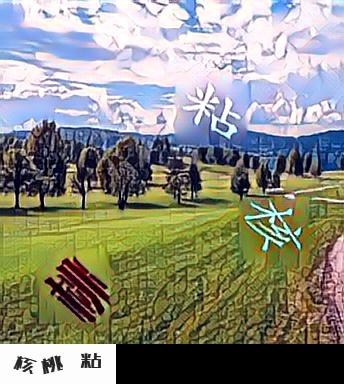character: (181, 79, 243, 143), (244, 196, 307, 257)
